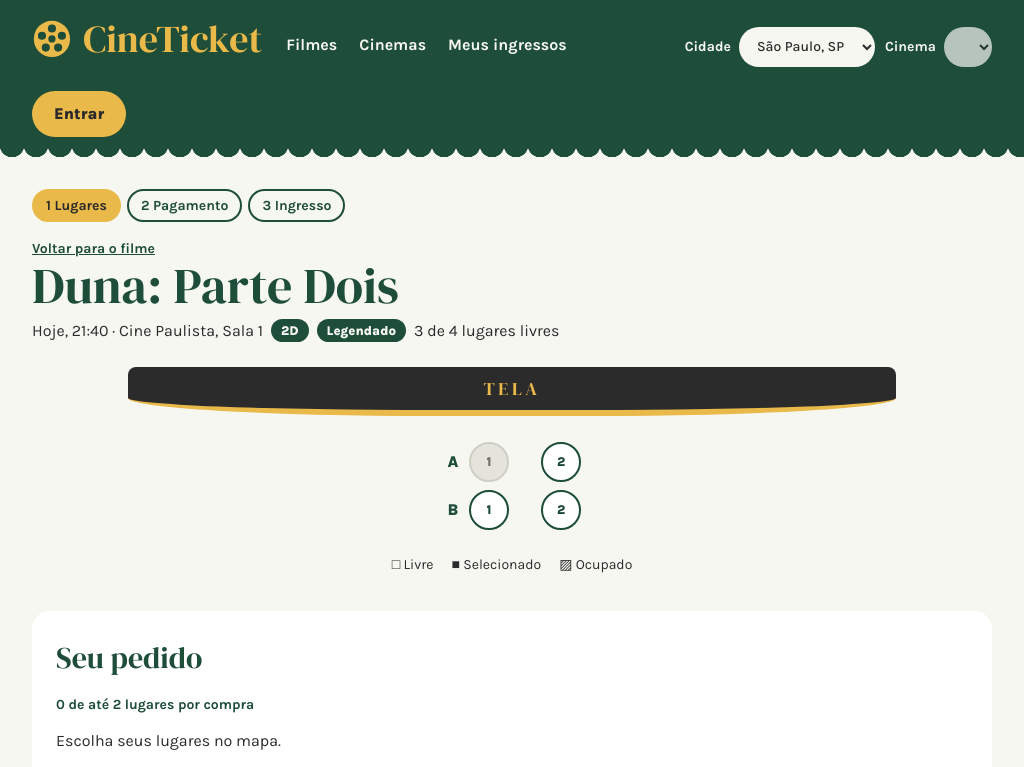
escolha de lugares › marca lugares, escolhe o tipo com o preço da API e guarda a escolha para depois do login
Expected: the button named "A-1, ocupado" is disabled, [469, 442, 509, 482]
Expected: the text "3 de 4 lugares livres" is shown, [414, 318, 560, 342]
Click the button named "A-2, livre" at (561, 462), box [541, 442, 581, 482]
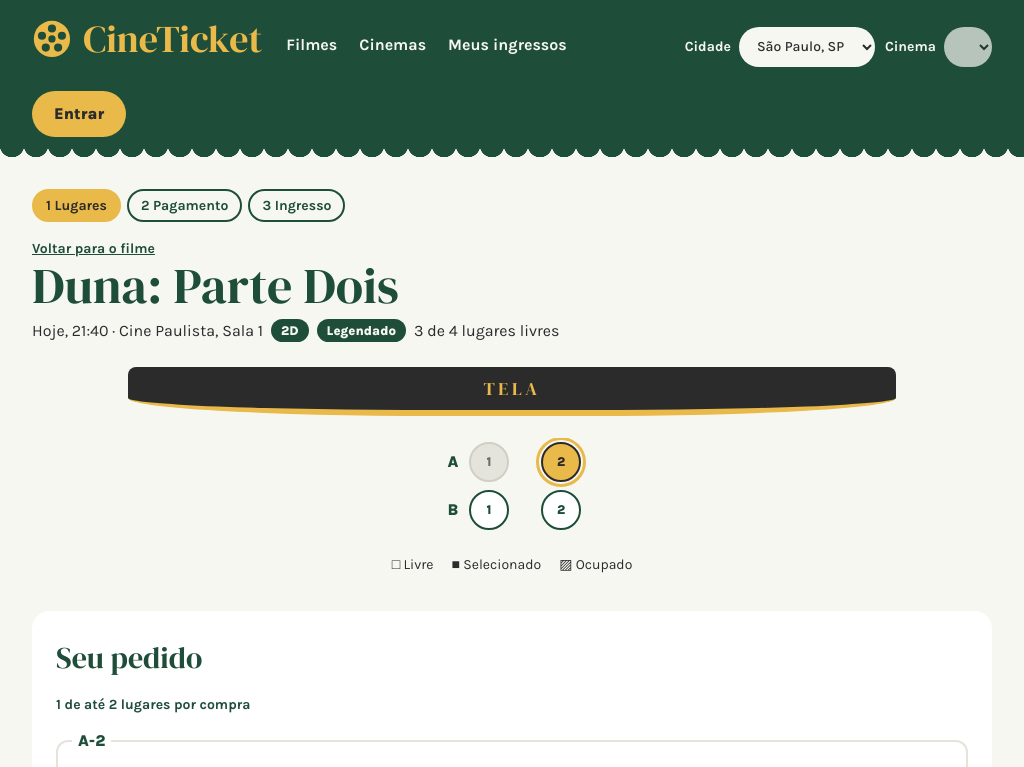
Click the button named "B-1, livre" at (489, 510), box [469, 490, 509, 530]
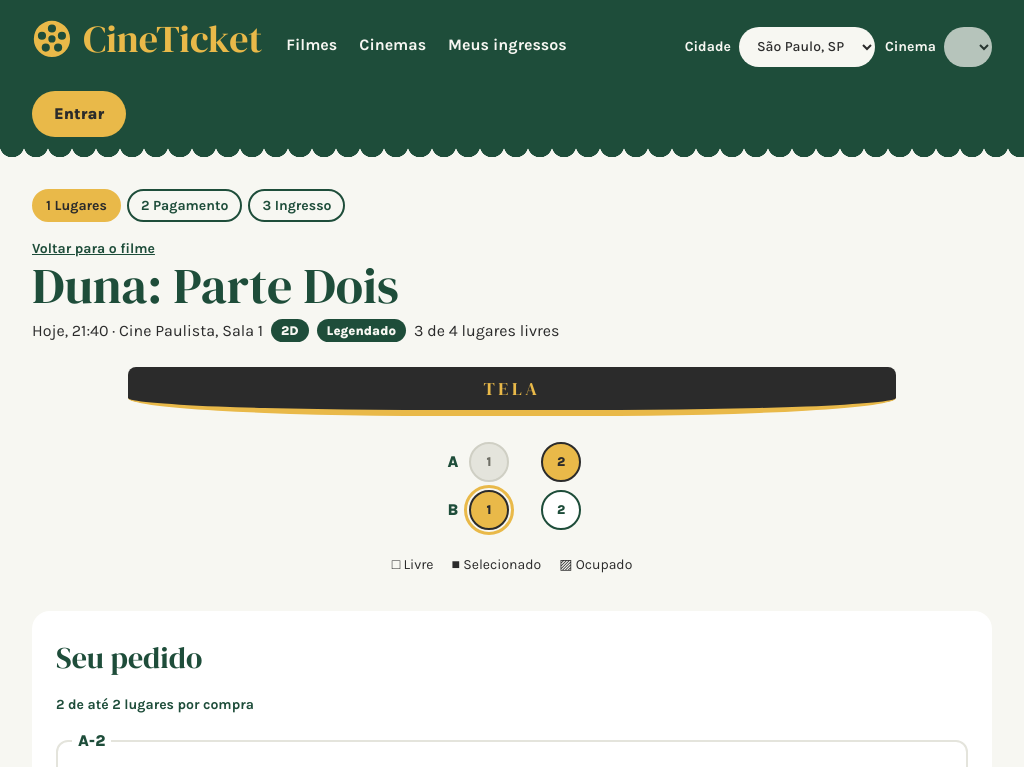
O limite vem da API: o terceiro lugar não entra.
Click the button named "B-2, livre" at (561, 510), box [541, 490, 581, 530]
(page scrolled)
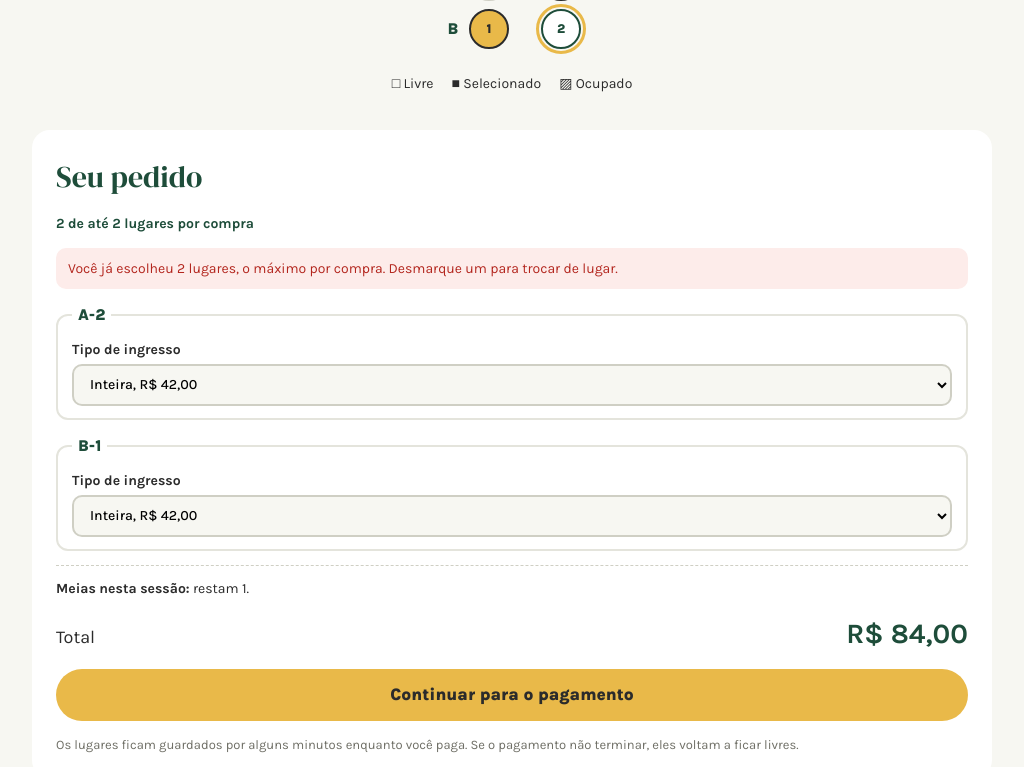
Expected: the text "2 de até 2 lugares por compra" is shown, [56, 214, 254, 232]
Expected: the message shows "Você já escolheu 2 lugares, o máximo por compra.", [56, 248, 968, 288]
Select "Meia estudante, R$ 21,00" in the dropdown labelled "Tipo de ingresso" below "A-2" at (512, 384), box [72, 364, 952, 406]
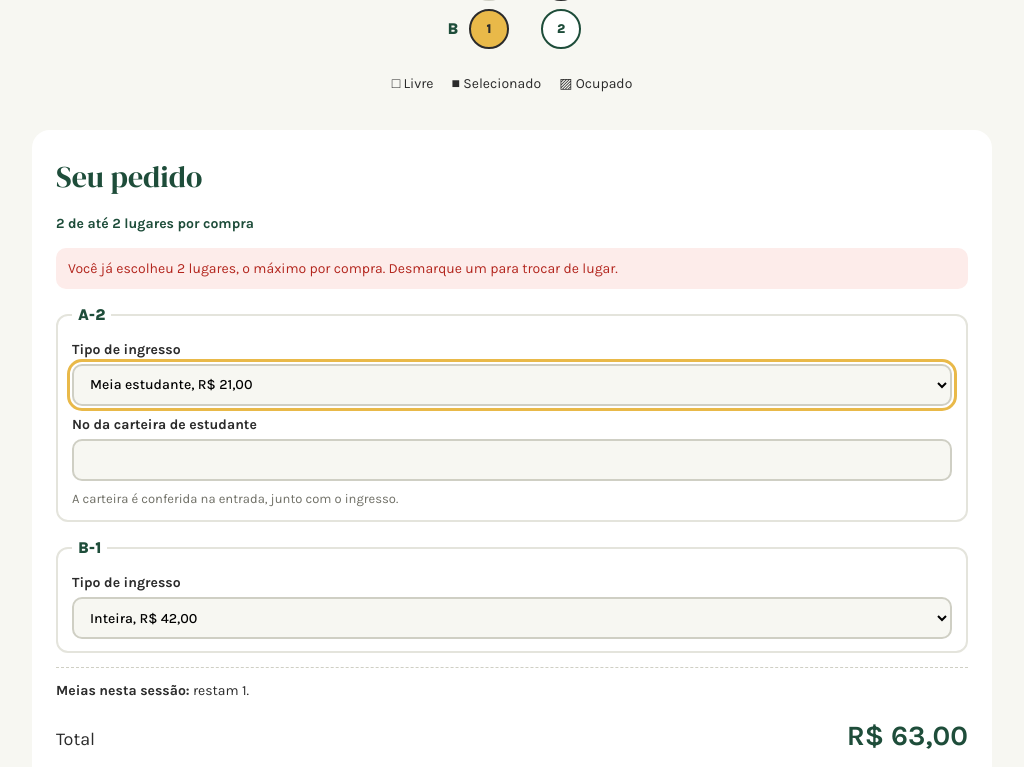
Type "123456789" into the field labelled "Nº da carteira de estudante" at (512, 460), box [72, 438, 952, 480]
(page scrolled)
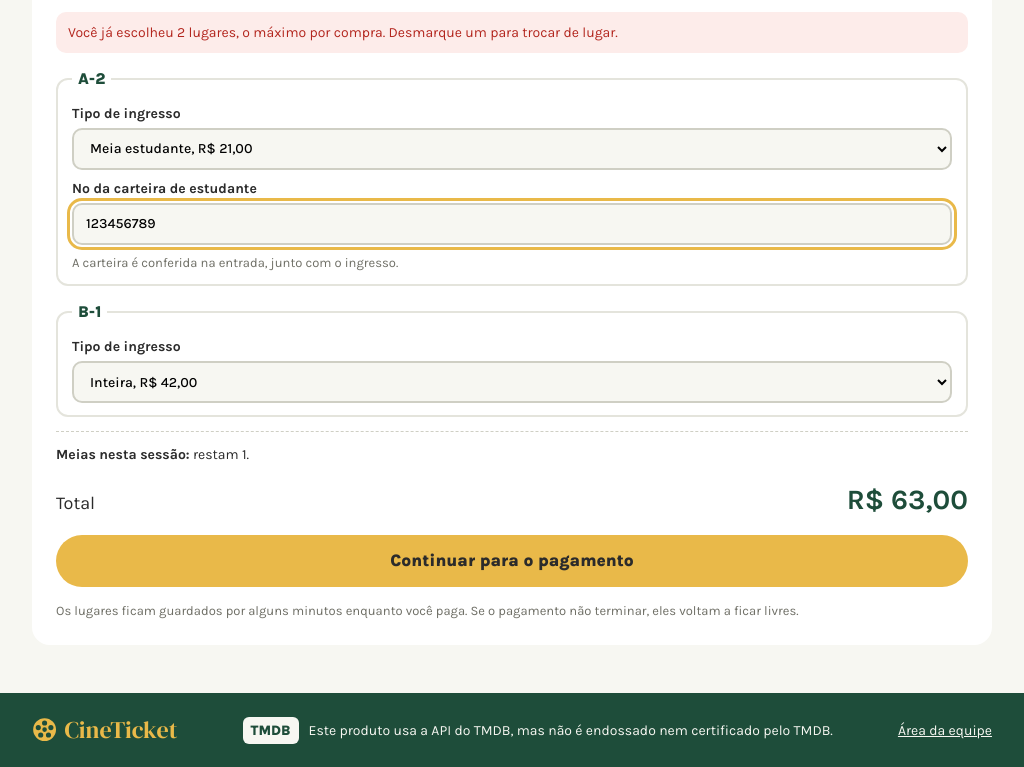
Expected: the text "R$ 63,00" is shown, [847, 479, 968, 521]
Click the button "Continuar para o pagamento" at (512, 561), box [56, 535, 968, 587]
(page scrolled)
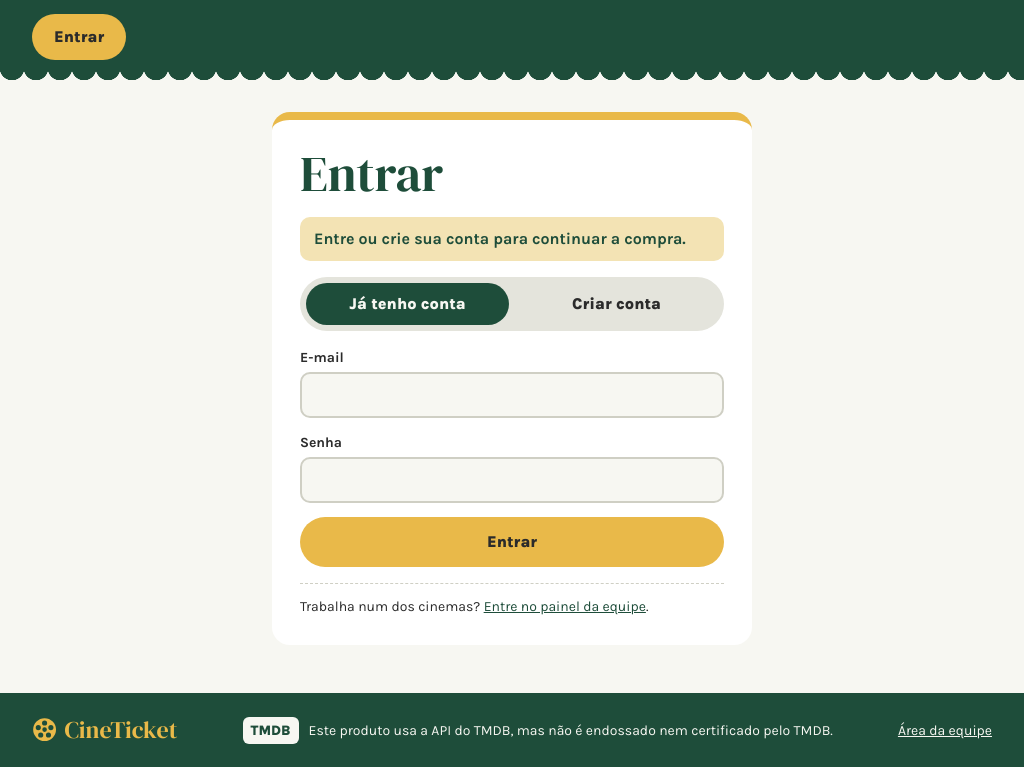
Expected: the heading "Entrar" is shown, [300, 139, 443, 208]
